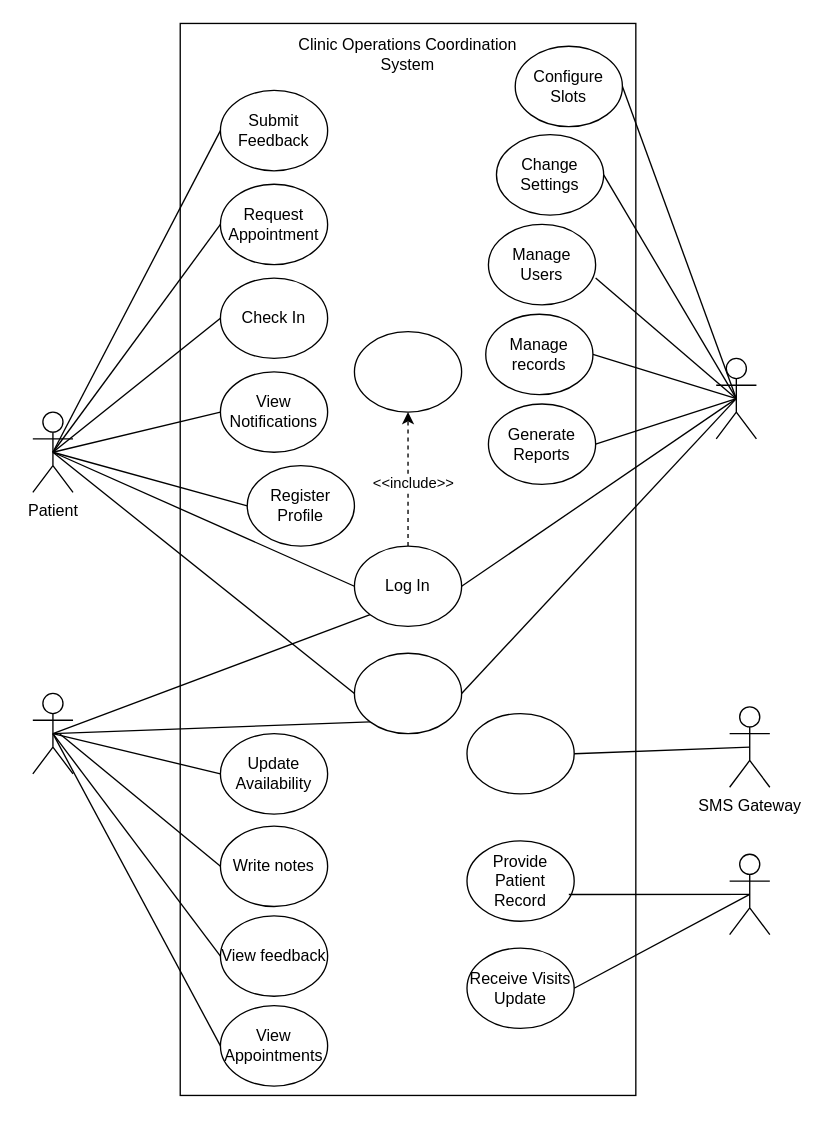
Image size: 824x1130. Some labels were removed from this diagram. The centre of each missing label's shape, as x and y in pixels:
Administrator: (735,398)
Authentication: (407,371)
Clinician: (52,733)
EMR System: (749,894)
Log Out: (407,693)
Send SMS: (520,753)
